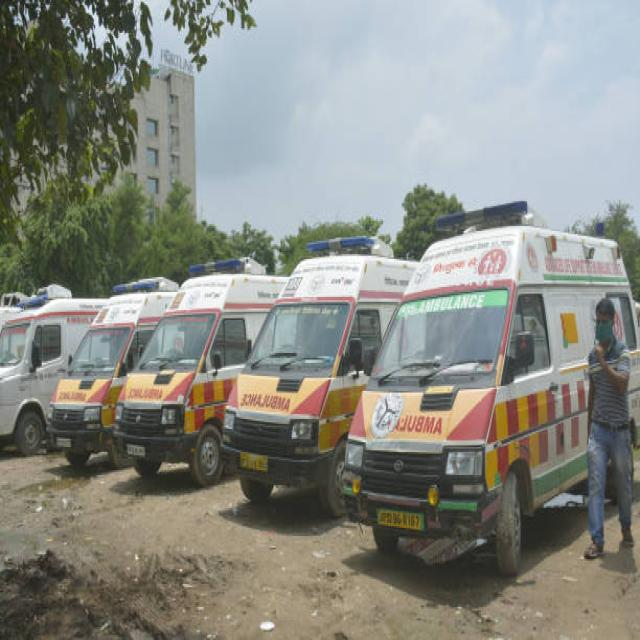ambulance: (433, 198, 529, 234), (396, 288, 501, 319), (304, 231, 373, 260), (241, 389, 293, 420), (188, 255, 243, 282), (392, 412, 450, 437), (108, 278, 156, 296), (125, 384, 167, 404), (54, 387, 88, 402), (64, 314, 94, 330)
